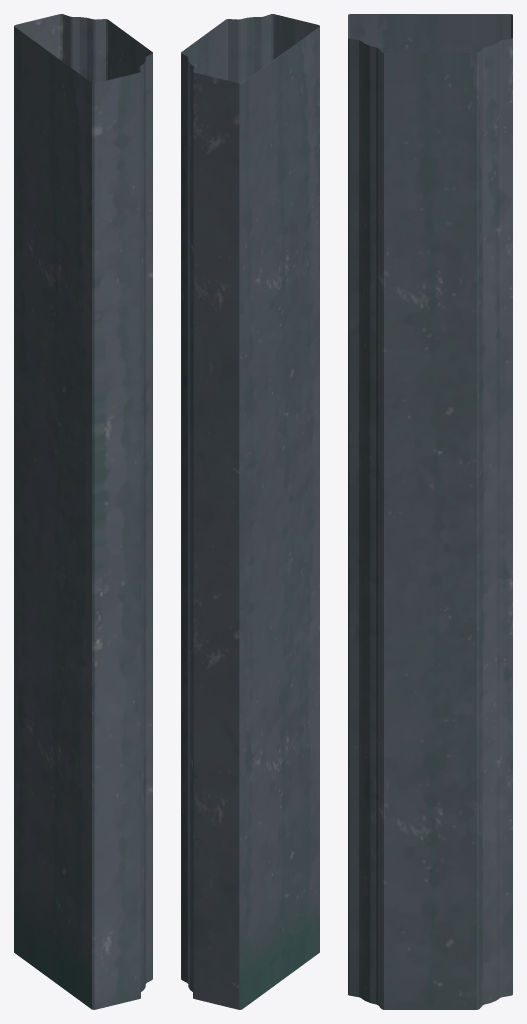
The model's file is Pillar_Arch.fbx.
3 renders of one model, left to right at view 1: azimuth 30°, elevation 25°; view 2: azimuth 150°, elevation 25°; view 3: azimuth 270°, elevation 25°, orthographic. The views are drawn at different scales.
Visible parts, largest first — view 1: Pillar_Arch; view 2: Pillar_Arch; view 3: Pillar_Arch.
Part boxes in pixels (<box>): Pillar_Arch: <box>14,14,152,1009</box>; Pillar_Arch: <box>181,14,319,1009</box>; Pillar_Arch: <box>348,14,512,1009</box>.
Bounding box in the file's own units: 43.64 × 500 × 78.12.
1 material, 1 textured.
